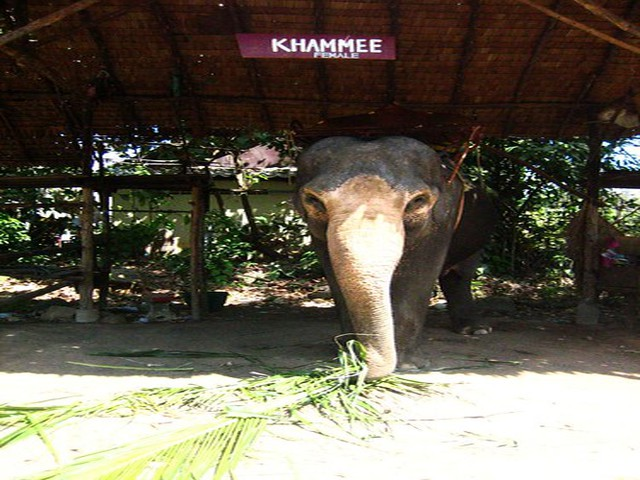Elephant: (293, 136, 508, 380)
